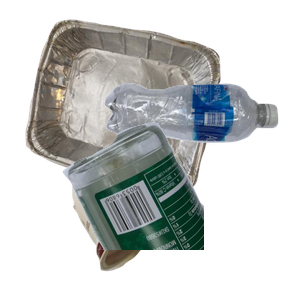glass: (60, 120, 300, 300)
metal: (23, 17, 236, 197)
plastic: (102, 81, 300, 216)
trash: (70, 149, 254, 300)
